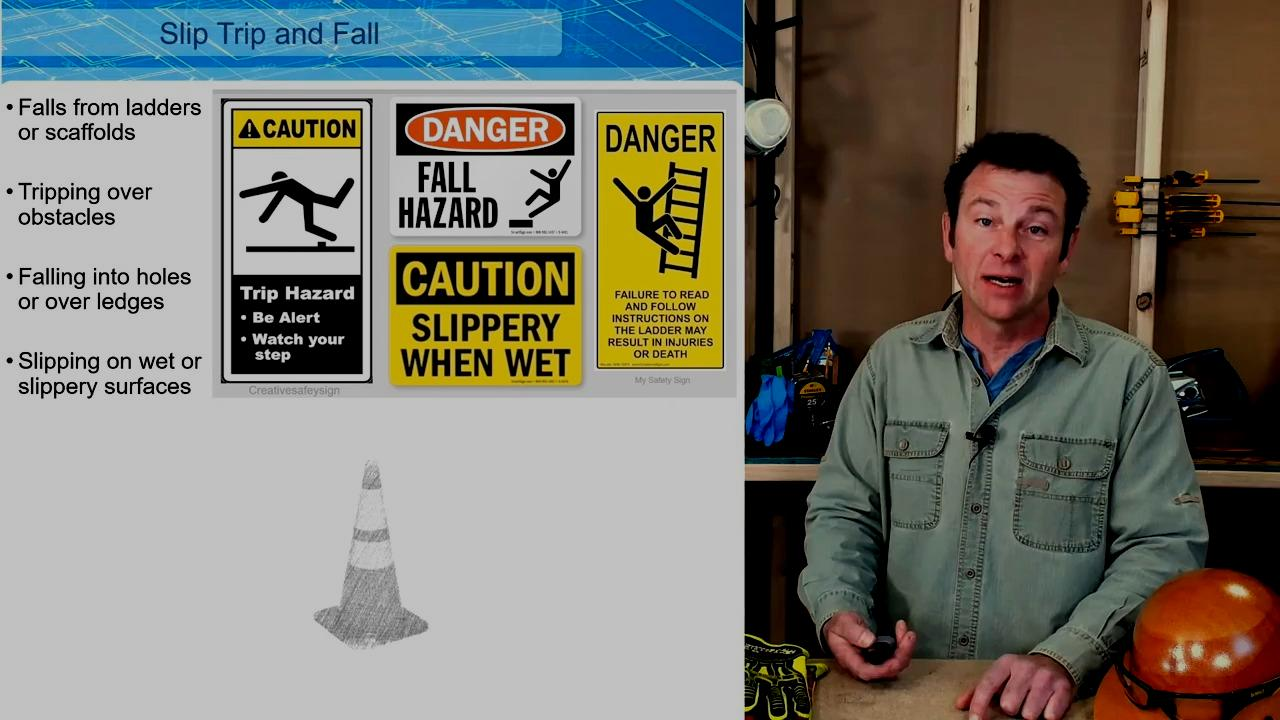safety_signage: (213, 95, 738, 400)
